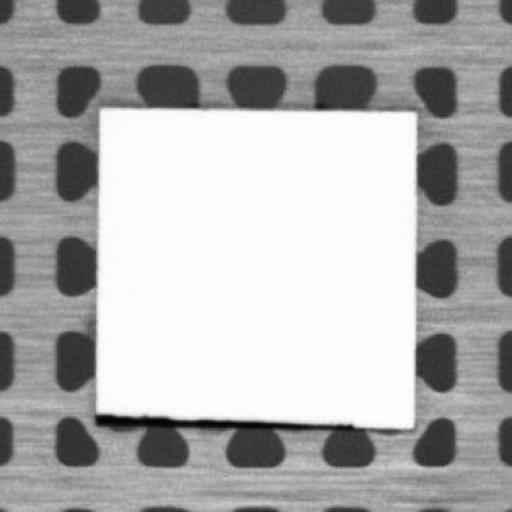DIE_BROKEN: (91, 409, 356, 431)
